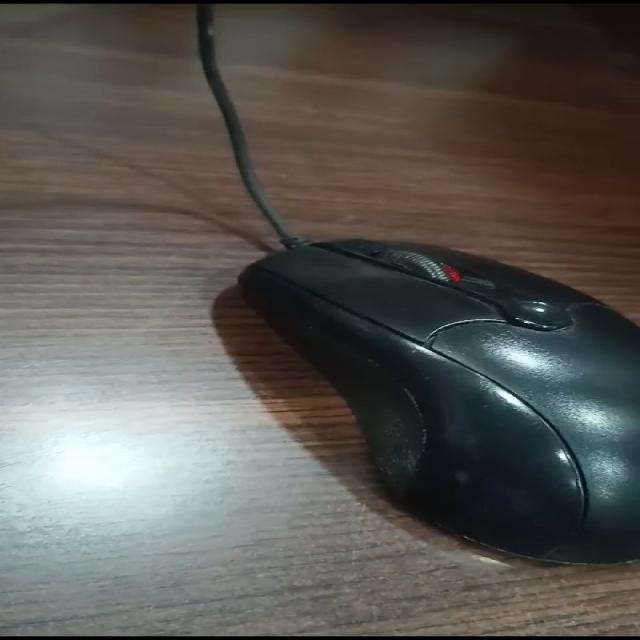Mouse: (198, 232, 640, 584)
